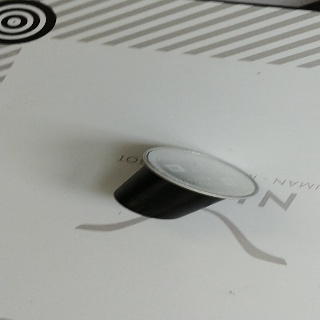capsule_10: (112, 145, 260, 220)
